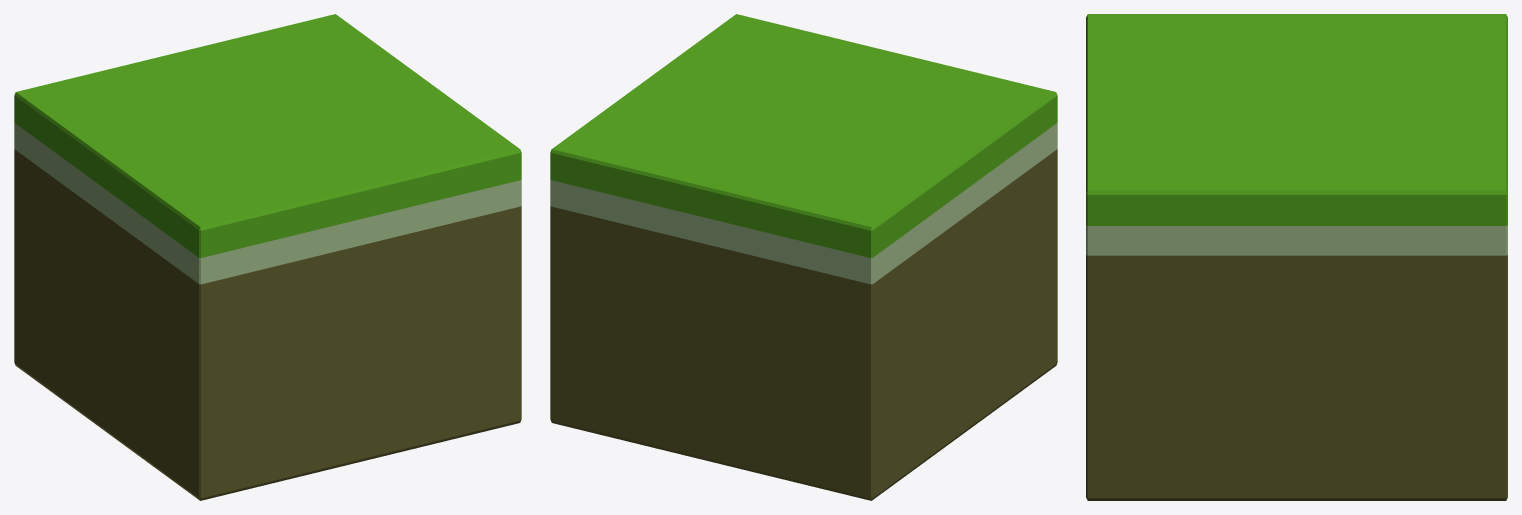
Rendered from Isl_17_Base_2.fbx.
3 views of the same model, side by side, from view 1: azimuth 30°, elevation 25°; view 2: azimuth 150°, elevation 25°; view 3: azimuth 270°, elevation 25° (orthographic). The views are drawn at different scales.
Visible parts, largest first — view 1: Isl_17_Base_2; view 2: Isl_17_Base_2; view 3: Isl_17_Base_2.
Part boxes in pixels (x1,y1,x2,y2): Isl_17_Base_2: (14,14,521,500); Isl_17_Base_2: (550,14,1057,500); Isl_17_Base_2: (1086,14,1507,500).
Size of the model in its own units: 222 by 222 by 180.
1 material, 1 textured.
